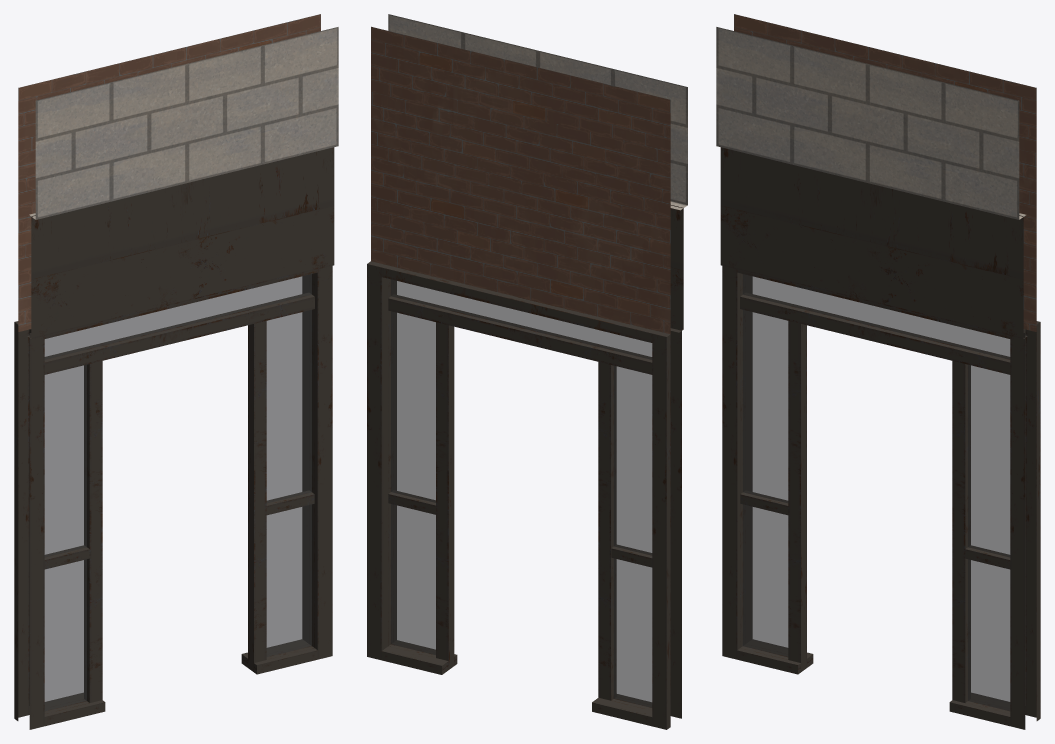
Rendered from DoorFrame_WhiteBrick.gltf.
3 views of the same model, side by side, from view 1: azimuth 30°, elevation 25°; view 2: azimuth 150°, elevation 25°; view 3: azimuth 330°, elevation 25° (orthographic).
Visible parts, largest first — view 1: DoorFrame_WhiteBrick; view 2: DoorFrame_WhiteBrick; view 3: DoorFrame_WhiteBrick.
Part boxes in pixels (x1,y1,x2,y2): DoorFrame_WhiteBrick: [14, 14, 338, 729]; DoorFrame_WhiteBrick: [367, 14, 687, 729]; DoorFrame_WhiteBrick: [716, 14, 1040, 729].
Size of the model in its own units: 2 by 4 by 0.2444.
Materials: 4 (3 with a texture image).
